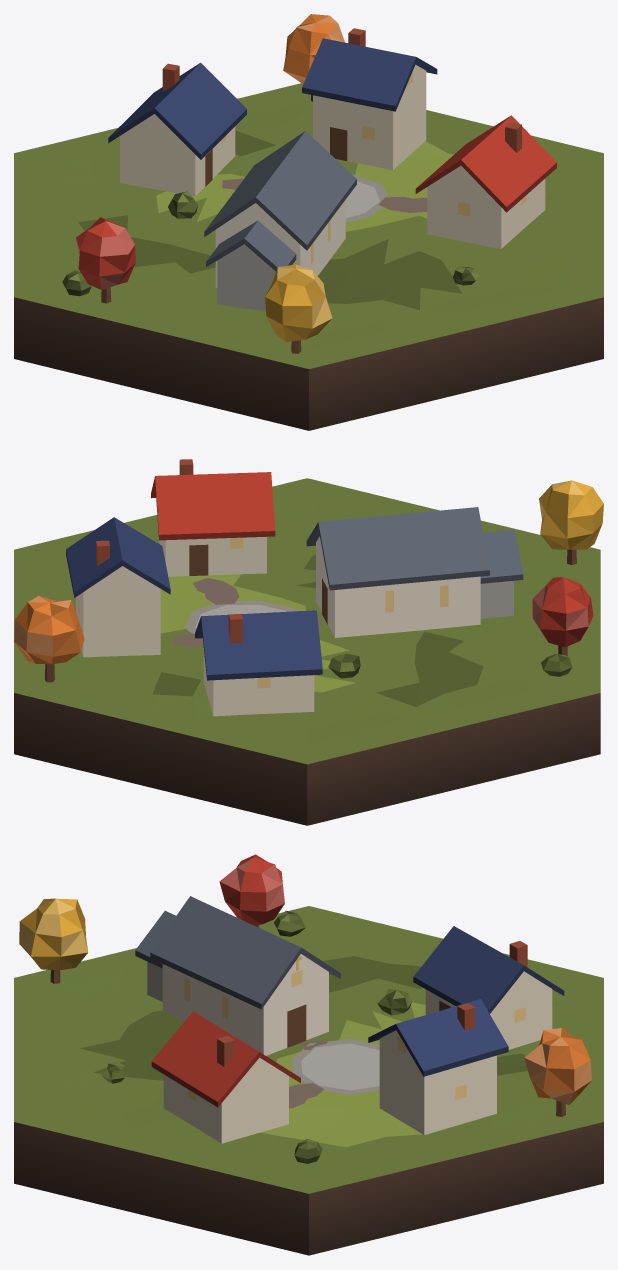
Rendered from SM_Tile_ChurchTown_A.fbx.
3 views of the same model, one above another, from view 1: azimuth 30°, elevation 25°; view 2: azimuth 150°, elevation 25°; view 3: azimuth 270°, elevation 25° (orthographic).
Parts seen in each view (by area): view 1: SM_Tile_ChurchTown_A; view 2: SM_Tile_ChurchTown_A; view 3: SM_Tile_ChurchTown_A.
Boxes of the visible parts, left/top/right/bottom form: SM_Tile_ChurchTown_A: left=14, top=14, right=603, bottom=430; SM_Tile_ChurchTown_A: left=14, top=459, right=603, bottom=825; SM_Tile_ChurchTown_A: left=14, top=854, right=603, bottom=1255.
Size of the model in its own units: 20 by 5.4 by 17.32.
